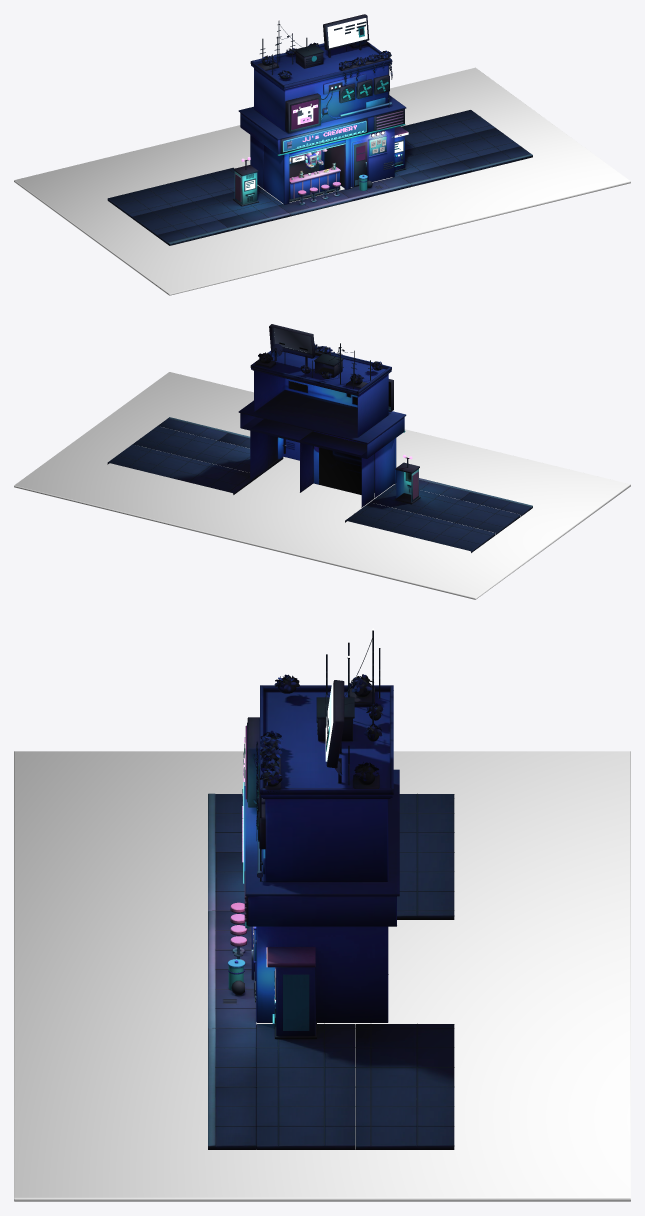
Rendered from creamery.glb.
3 views of the same model, one above another, from view 1: azimuth 30°, elevation 25°; view 2: azimuth 150°, elevation 25°; view 3: azimuth 270°, elevation 25° (orthographic). The views are drawn at different scales.
Parts seen in each view (by area): view 1: ground, street, building_upper, building_lower, hotspot_home_sign, hotspot_credits_monitor, resume_kiosk_detail, hotspot_resume_kiosk, hotspot_about_cowscreen; view 2: ground, street, building_upper, building_lower, resume_kiosk_detail, hotspot_resume_kiosk; view 3: ground, street, building_upper, building_lower, projects_machine_detail, hotspot_projects_machine.
Part boxes in pixels (x1,y1,x2,y2): ground: (14,67,630,295); street: (107,110,532,245); building_upper: (238,14,406,154); building_lower: (250,124,405,204); hotspot_home_sign: (283,120,366,151); hotspot_credits_monitor: (327,18,367,48); resume_kiosk_detail: (233,160,258,206); hotspot_resume_kiosk: (234,171,257,204); hotspot_about_cowscreen: (291,99,318,129); ground: (14,372,630,599); street: (107,417,532,552); building_upper: (238,324,406,458); building_lower: (250,419,405,507); resume_kiosk_detail: (394,457,420,503); hotspot_resume_kiosk: (396,469,418,503); ground: (14,751,630,1201); street: (208,793,454,1149); building_upper: (244,630,399,926); building_lower: (230,902,388,1022); projects_machine_detail: (266,947,316,1038); hotspot_projects_machine: (276,967,315,1036).
Bounding box in the file's own units: 24 × 8.02 × 14.
Materials: 27 (15 with a texture image).
